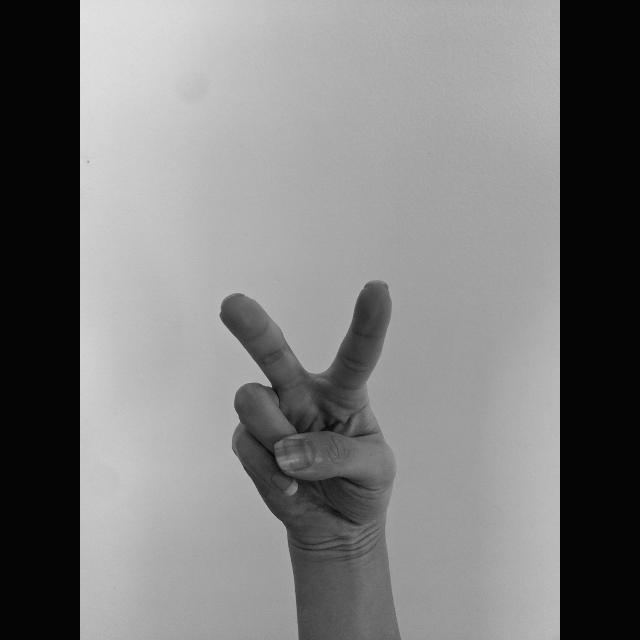V: (213, 274, 403, 540)
